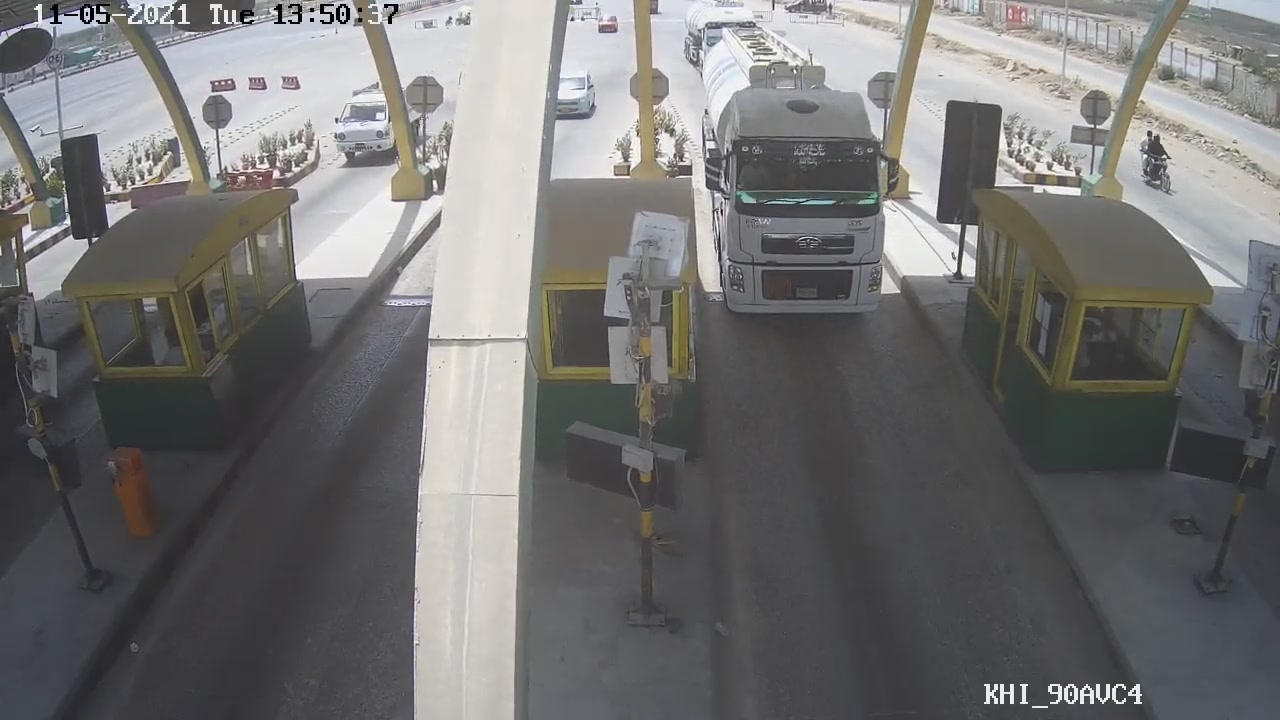F6: (696, 41, 901, 325)
